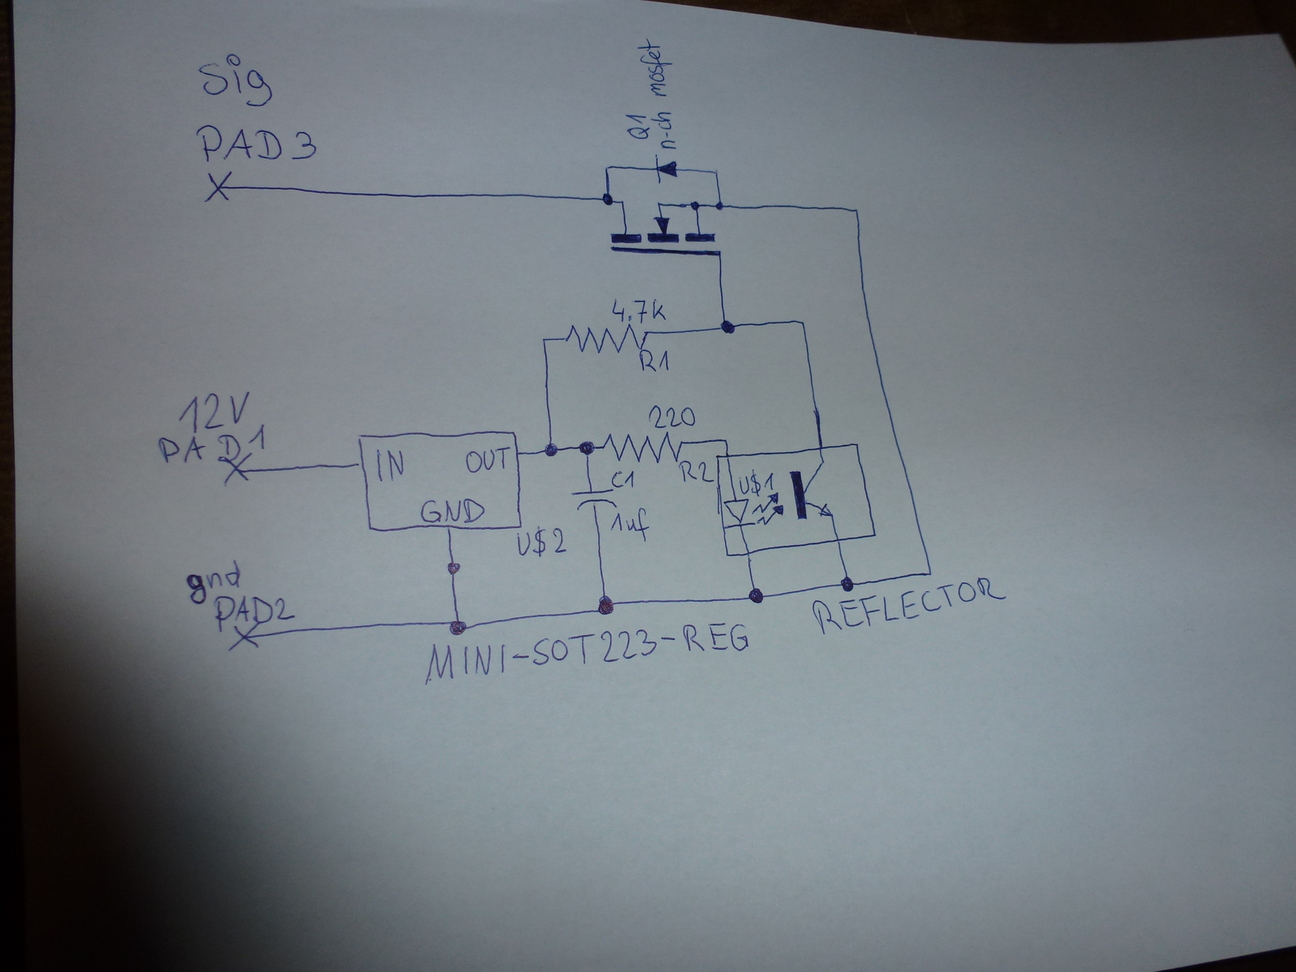capacitor.unpolarized: (571, 488, 615, 511)
diode: (655, 155, 679, 183)
integrated_circuit: (714, 441, 878, 558)
junction: (594, 594, 620, 617), (447, 614, 469, 638), (577, 437, 598, 458), (717, 317, 737, 337), (540, 439, 560, 458), (747, 586, 765, 607), (838, 574, 855, 592), (848, 202, 863, 218), (600, 191, 614, 207), (921, 564, 934, 577), (796, 315, 808, 328), (538, 334, 550, 345), (714, 200, 724, 212), (710, 166, 720, 176), (602, 162, 611, 173), (720, 436, 730, 445)
optocoupler: (721, 458, 838, 532)
resistor: (597, 429, 691, 468), (563, 321, 652, 357)
terminal: (219, 449, 255, 486), (227, 622, 264, 654), (203, 169, 233, 203)
text: (429, 619, 753, 681), (808, 574, 1008, 640), (198, 119, 320, 166), (636, 35, 680, 152), (155, 421, 268, 466), (212, 589, 297, 634), (197, 61, 276, 109), (176, 387, 253, 435), (185, 560, 245, 604), (419, 494, 486, 526), (519, 525, 569, 560), (610, 296, 668, 325), (645, 401, 696, 431), (609, 505, 650, 540), (460, 445, 509, 473), (375, 446, 407, 482), (674, 458, 715, 486), (736, 470, 775, 498), (638, 345, 672, 374), (622, 111, 650, 140), (610, 468, 638, 494)
transistor: (607, 194, 725, 259)
voltage.dc_regulator: (356, 427, 526, 537)
